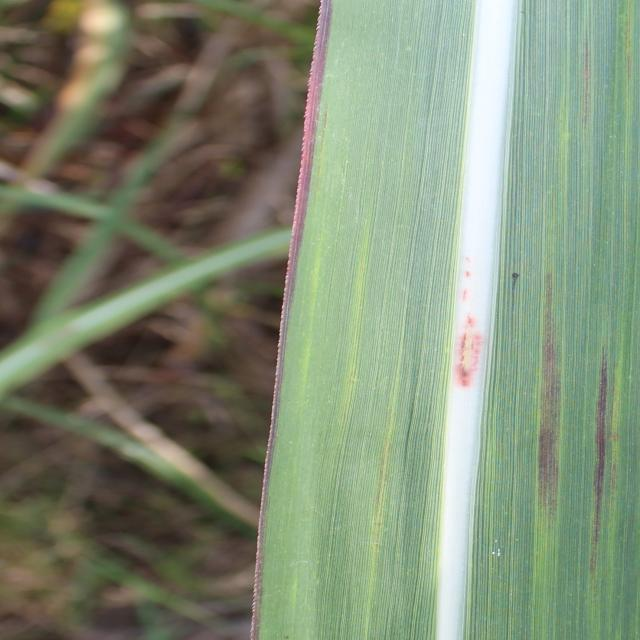Sugarcane: (249, 1, 638, 638)
